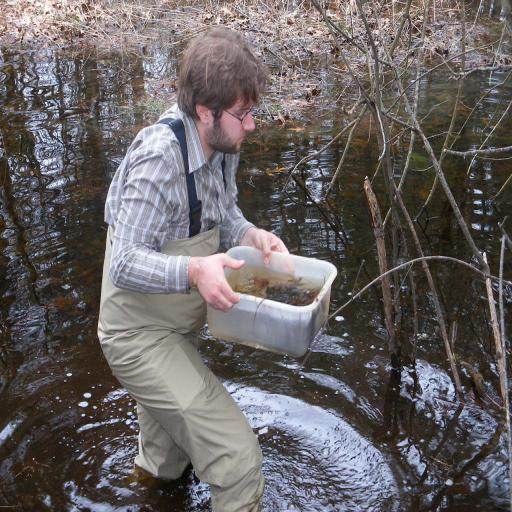Person: (74, 63, 367, 448)
no_gloves: (183, 241, 248, 308), (227, 227, 299, 273)
no_goggle: (204, 120, 268, 162)
no_helmet: (164, 73, 282, 191)
none: (109, 145, 227, 339)
